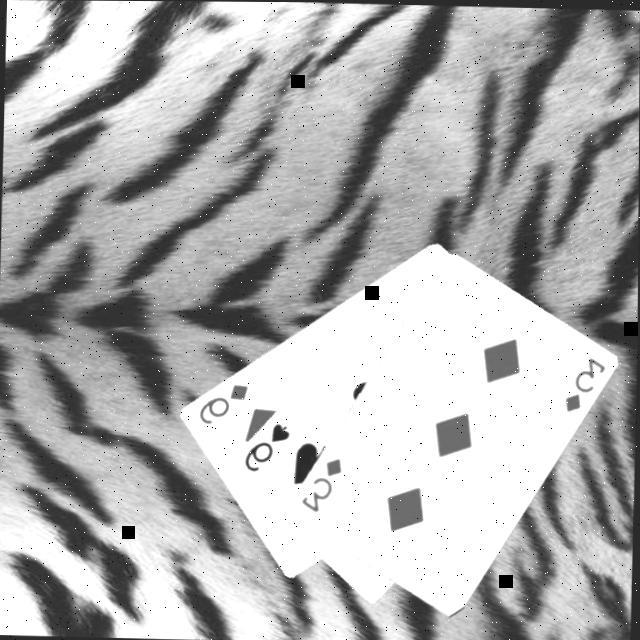3D: (559, 350, 606, 414), (295, 452, 342, 515)
6D: (192, 378, 249, 427)
6S: (239, 417, 291, 474)
